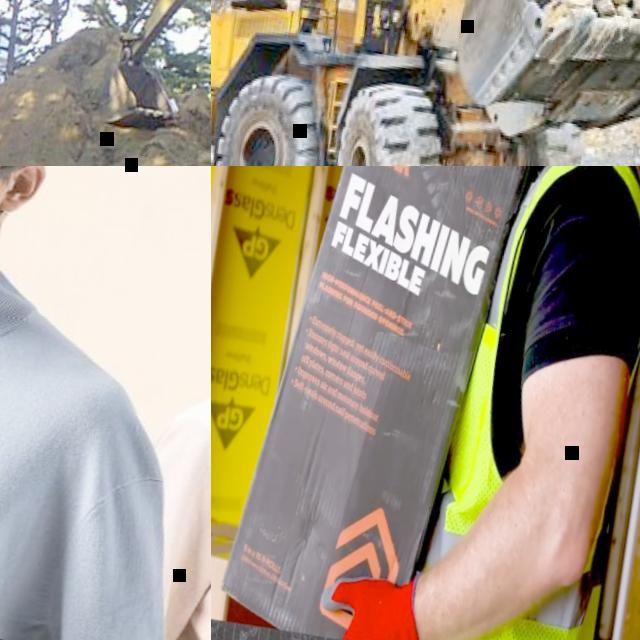NO-Safety Vest: (0, 279, 91, 640)
Person: (311, 166, 640, 640), (0, 166, 211, 640), (111, 166, 211, 640)
Safety Vest: (403, 166, 640, 640)
vehicle: (211, 0, 640, 166), (73, 0, 211, 144)
